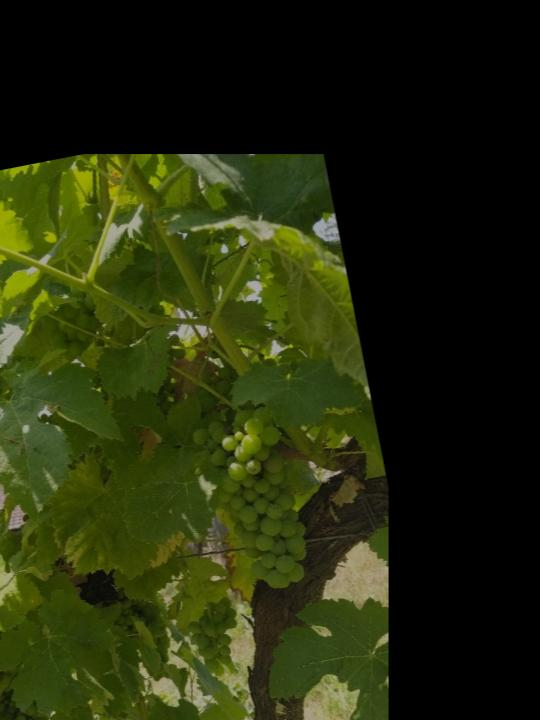grape: (187, 402, 319, 603), (0, 713, 42, 720)
